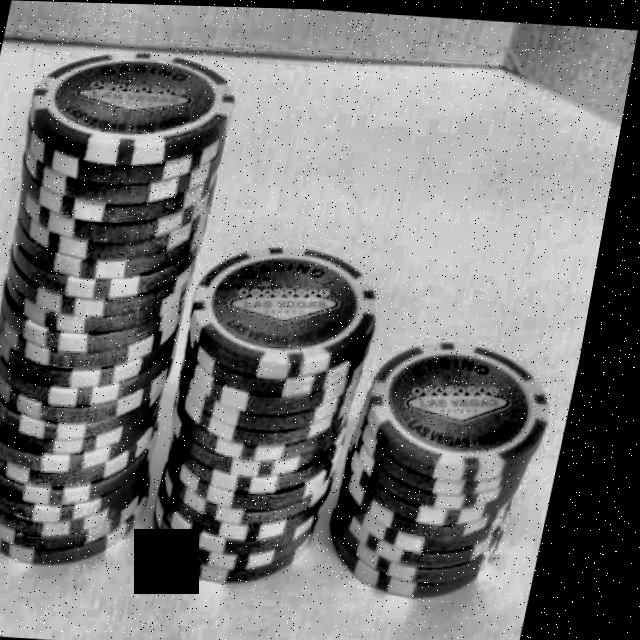Chip: (0, 44, 249, 569), (151, 223, 405, 592), (333, 320, 586, 604)
